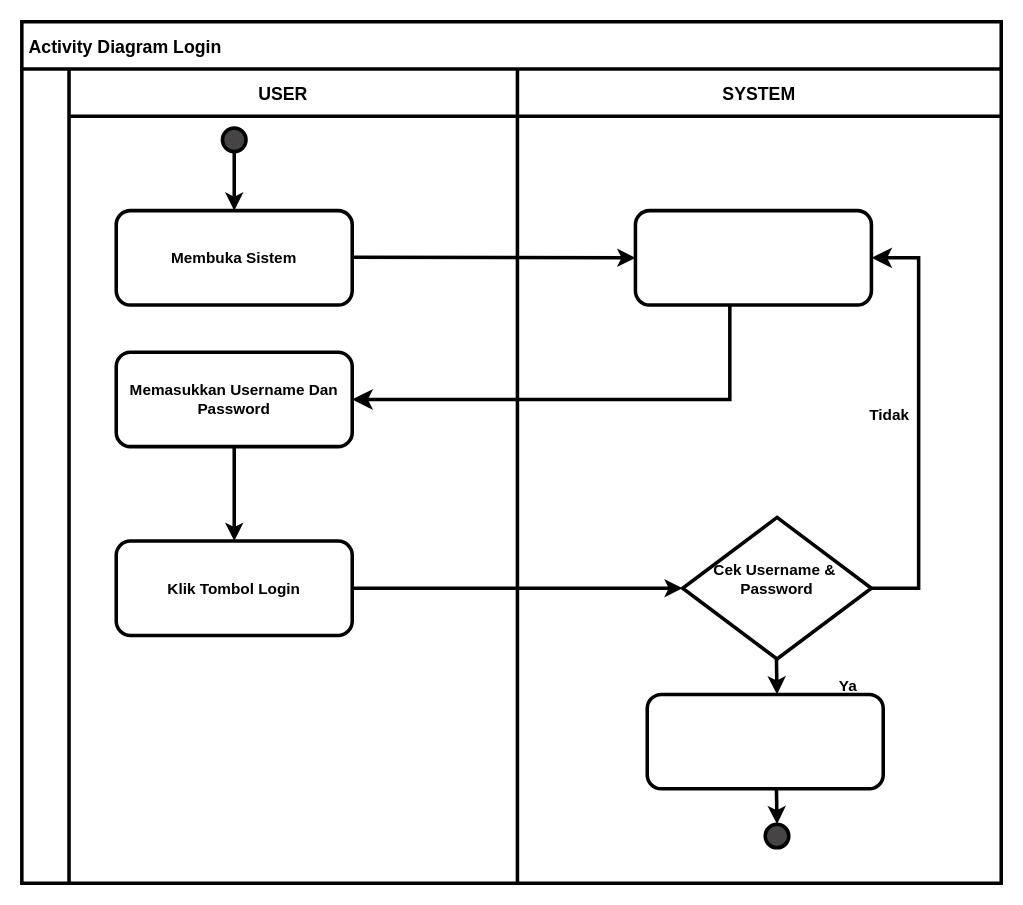
The diagram is 1023 pixels wide and 905 high, and some of its shapes have lost their labels. The centre of each missing label's shape, as x and y in pixels:
"Menampilkan Halaman Login" goes at point (753, 257).
"Menampilkan Tampilan Utama Sistem" goes at point (764, 741).
